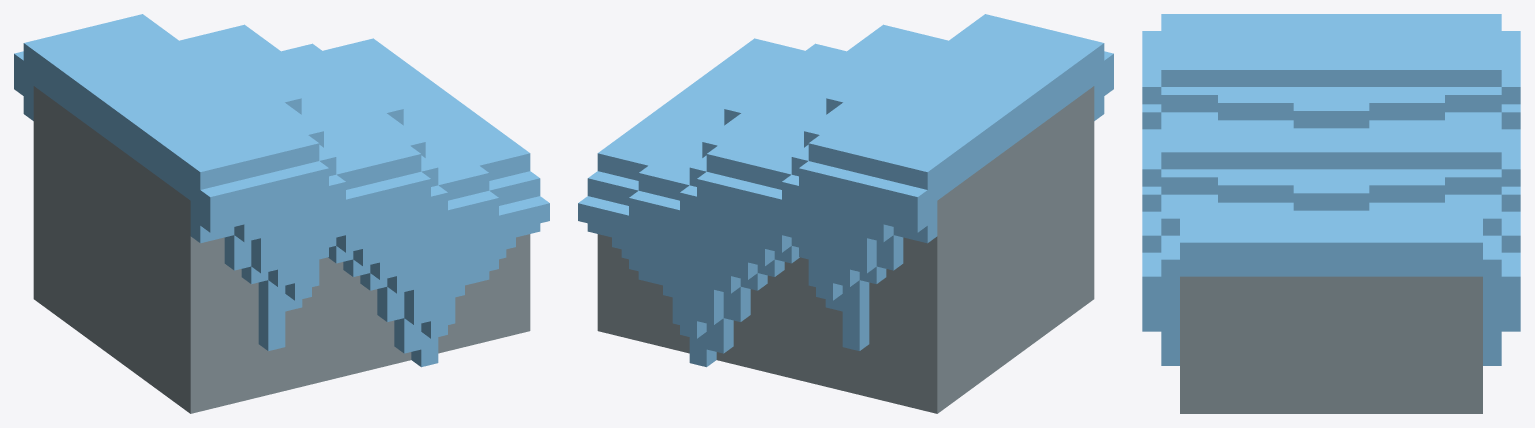
Rendered from Floors-22.obj.
3 views of the same model, side by side, from view 1: azimuth 30°, elevation 25°; view 2: azimuth 150°, elevation 25°; view 3: azimuth 270°, elevation 25° (orthographic). The views are drawn at different scales.
Size of the model in its own units: 2 by 1.4 by 2.
1 material, 1 textured.
